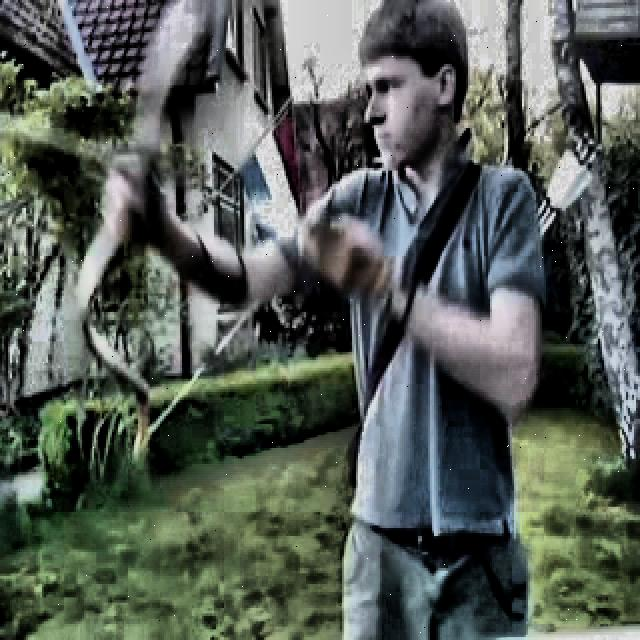P: (114, 6, 544, 635)
